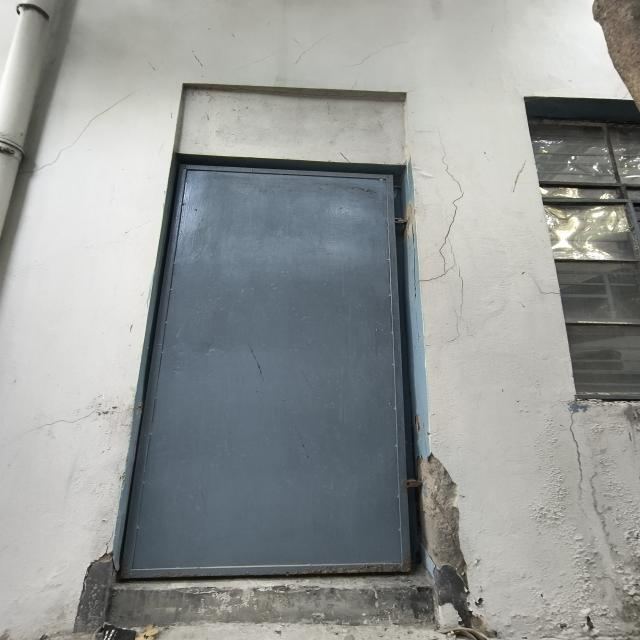crack: (16, 86, 143, 177), (410, 218, 458, 342), (587, 462, 622, 555), (21, 408, 132, 437), (415, 129, 462, 191), (78, 528, 115, 604), (438, 191, 464, 272), (191, 87, 377, 98), (568, 408, 585, 512), (457, 265, 466, 318)
peeling: (501, 399, 640, 640), (592, 0, 640, 110)
spalling: (418, 453, 494, 637)
